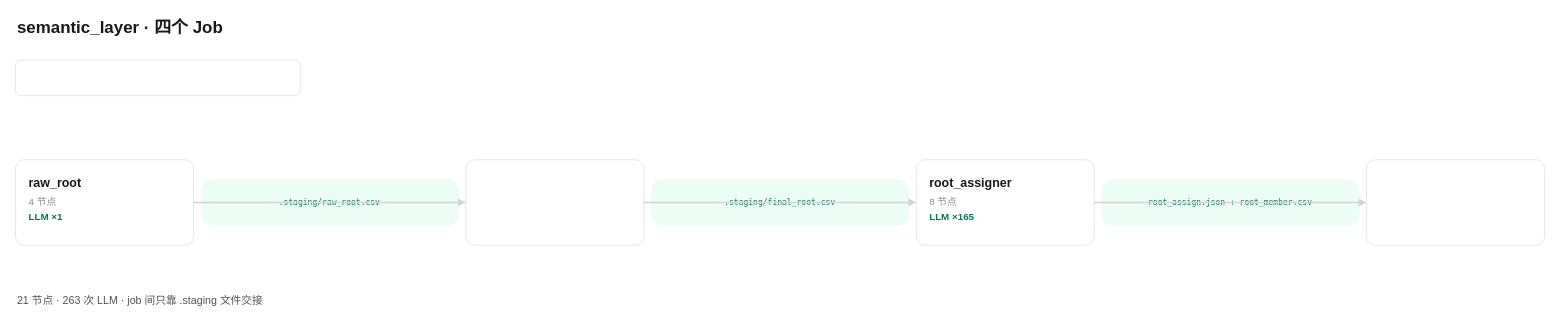
This 1560x328 diagram has some shape labels left out. The shapes that lost their labels are listed below. From the top down, each one's centre as x and y in pixels, then its label:
At [157,77]: "图例 ▮ LLM ▮ entity ▯ 文件".
At [554,202]: "refine_root 5 节点 LLM ×49".
At [1455,202]: "member_attribute 4 节点 LLM ×48".
